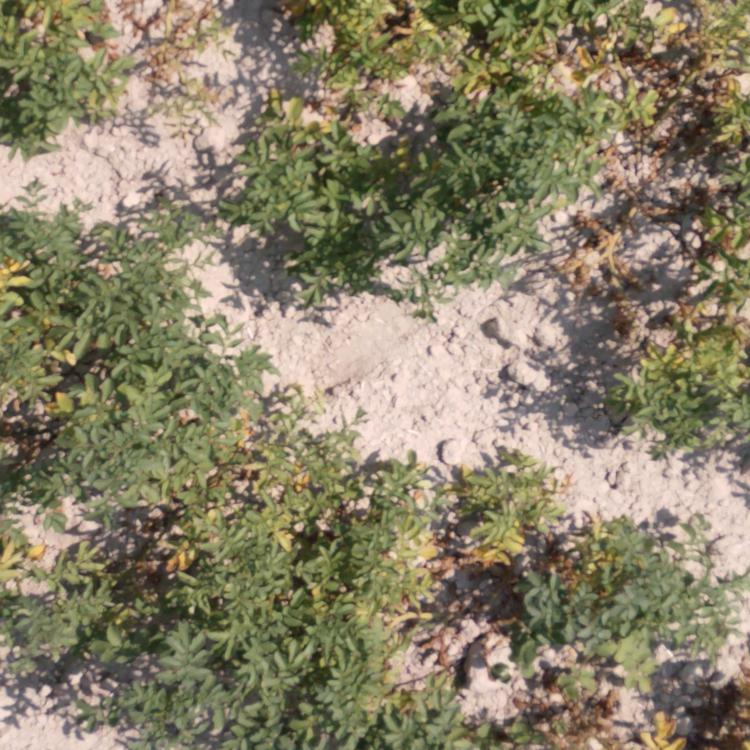healthy: (389, 102, 569, 257), (180, 604, 324, 749), (231, 173, 377, 300), (123, 220, 185, 487), (631, 532, 735, 673), (519, 603, 604, 663), (199, 339, 254, 410)
stressed: (193, 414, 430, 600), (579, 4, 736, 229), (1, 206, 121, 500), (3, 508, 172, 705), (432, 450, 618, 600), (315, 1, 565, 96), (616, 278, 745, 439), (4, 1, 127, 156), (338, 610, 467, 750), (546, 695, 750, 749), (243, 78, 361, 158), (144, 16, 222, 123)
